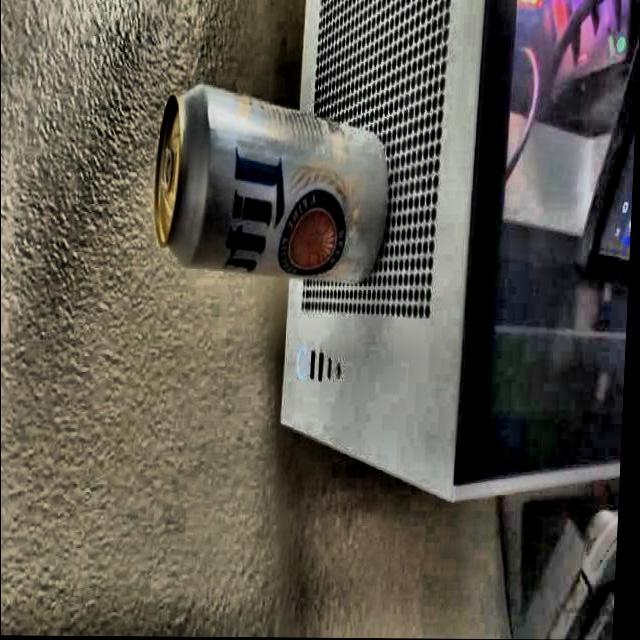litter: (140, 76, 408, 297)
